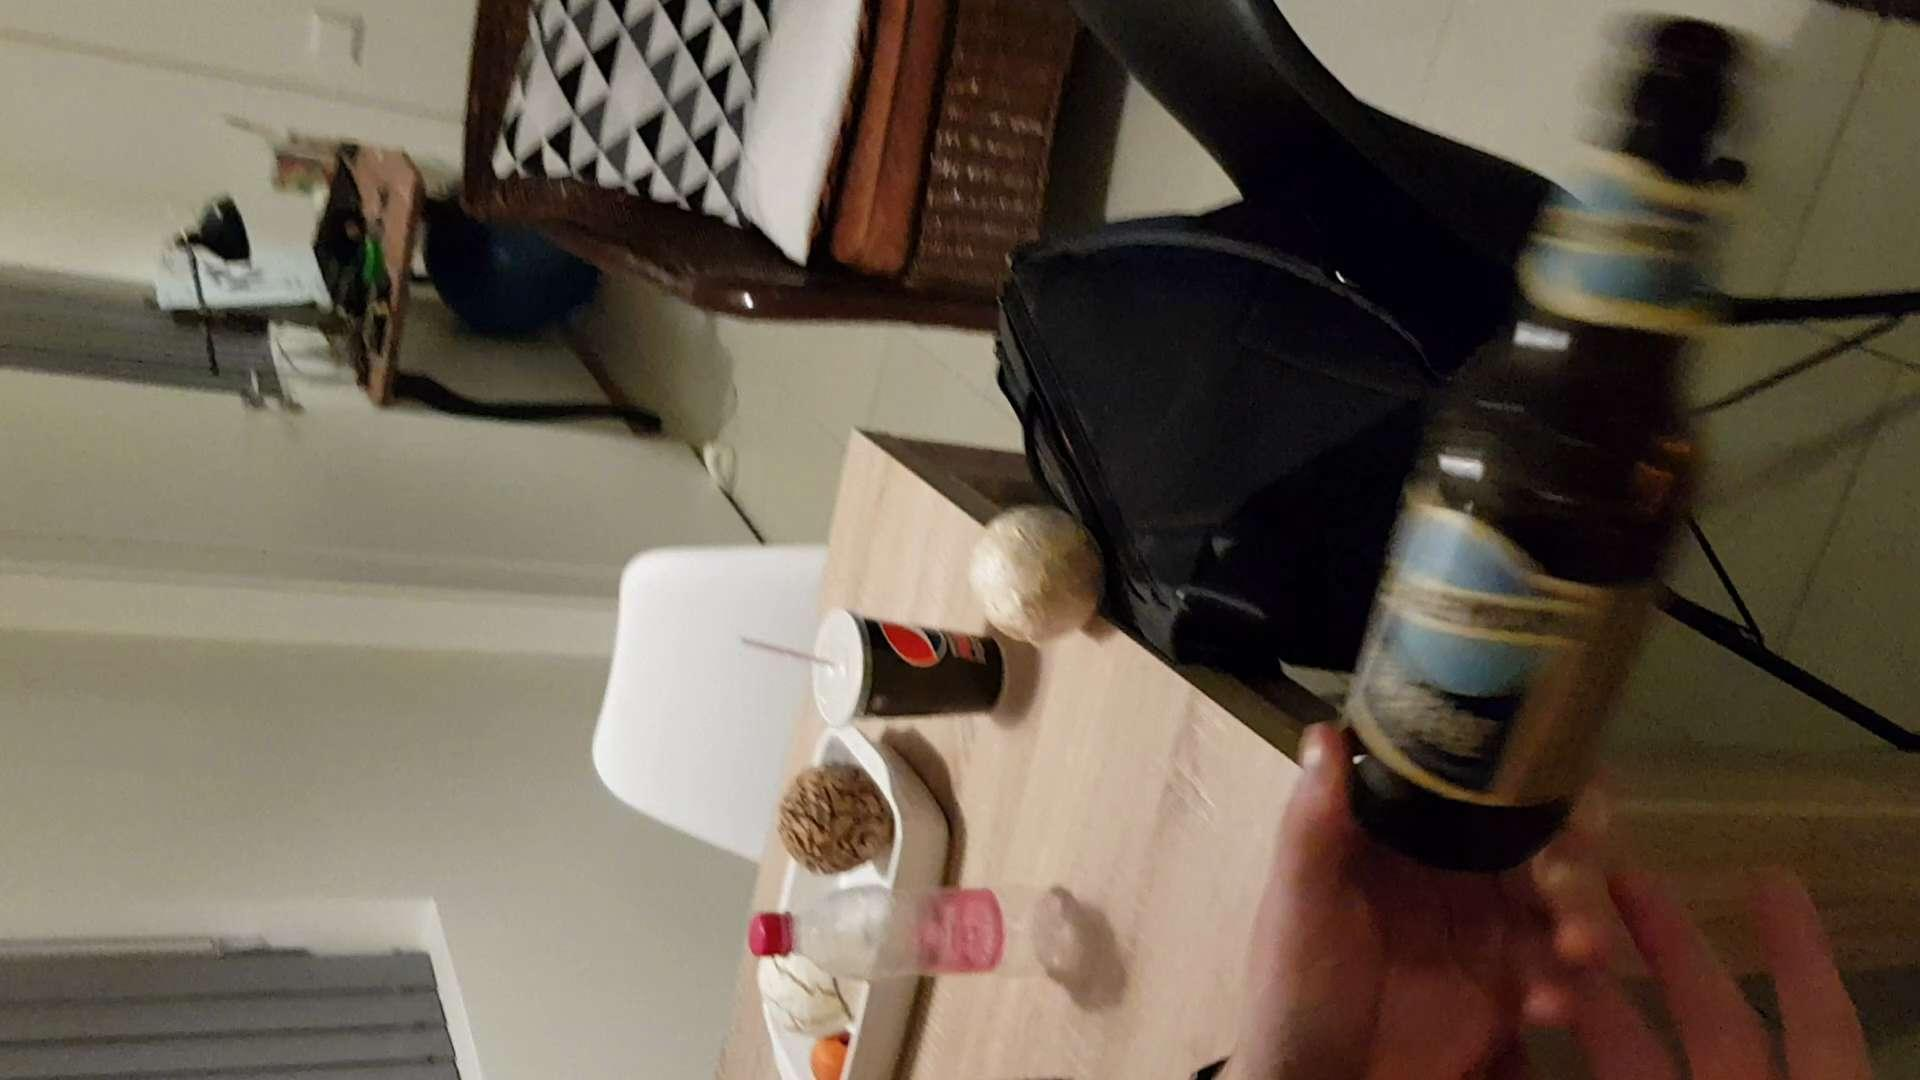Bottle: (1312, 7, 1759, 881)
Sphere: (963, 491, 1102, 645), (762, 760, 895, 874)
